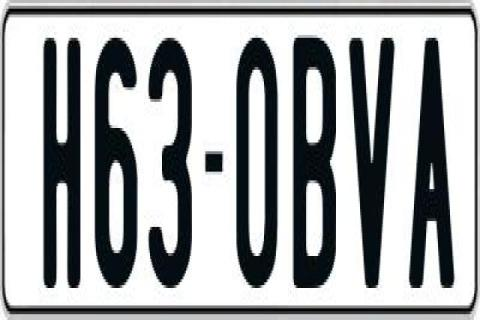0: (95, 29, 143, 294), (148, 32, 194, 294), (234, 29, 278, 279)
A: (409, 29, 458, 291)
B: (293, 35, 339, 294)
H: (40, 32, 84, 285)
V: (350, 29, 398, 279)
